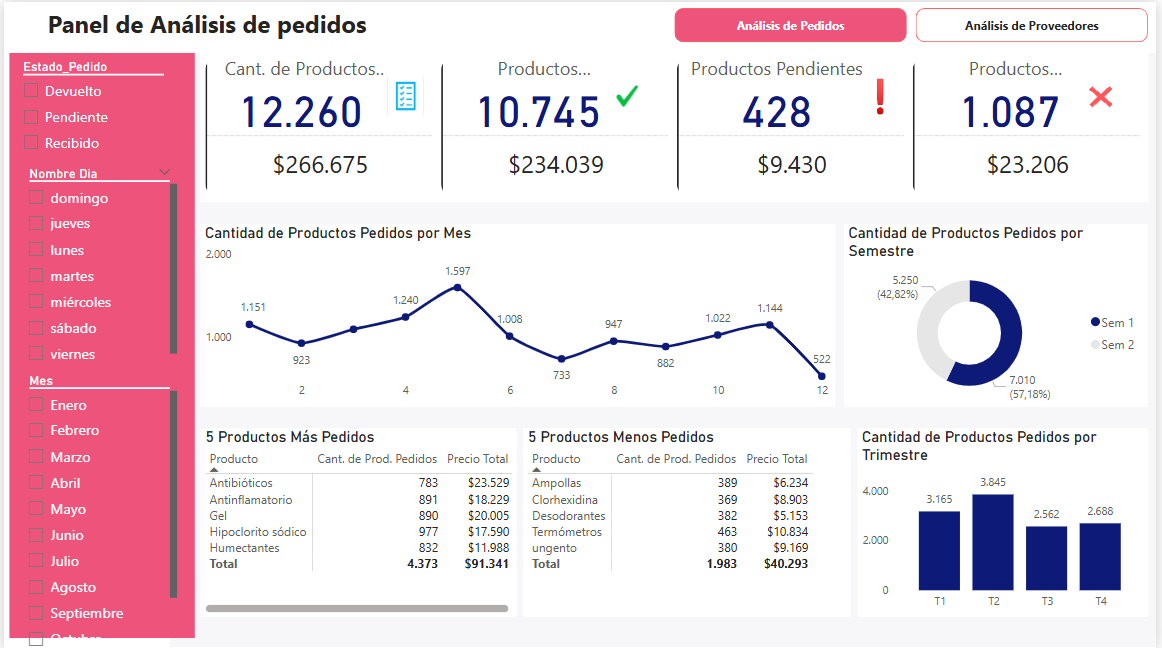

Layout of this report page (visuals, bound fields, positions):
{"tool":"powerbi","page":{"name":"Análisis de Pedidos","canvas":[1280,720],"ordinal":1},"visuals":[{"type":"textbox","box":[42.8,0,433.8,54.5],"z":0},{"type":"cardVisual","fields":{"Data":["Dax Medidas.Cant. de Productos Pedidos","Dax Medidas.Productos Recibidos","Dax Medidas.Productos Pendientes","Dax Medidas.Productos Devueltos"]},"box":[218,55,1053,167],"z":1000},{"type":"lineChart","title":"Cantidad de Productos Pedidos por Mes","fields":{"Category":["Calendario2.Mes Num"],"Y":["Dax Medidas.Cant. de Productos Pedidos"]},"box":[218,246,705,203],"z":2000},{"type":"donutChart","title":"Cantidad de Productos Pedidos por Semestre","fields":{"Category":["Calendario2.Semestre"],"Y":["Dax Medidas.Cant. de Productos Pedidos"]},"box":[934,246,337,203],"z":3000},{"type":"pivotTable","title":"5 Productos Más Pedidos","fields":{"Rows":["Productos4.Producto"],"Values":["Dax Medidas.Cant. de Productos Pedidos","Dax Medidas.Precio Total"]},"box":[218,474,351,210],"z":4000},{"type":"pivotTable","title":"5 Productos Menos Pedidos","fields":{"Rows":["Productos4.Producto"],"Values":["Dax Medidas.Cant. de Productos Pedidos","Dax Medidas.Precio Total"]},"box":[576,474,364,210],"z":5000},{"type":"clusteredColumnChart","title":"Cantidad de Productos Pedidos por Trimestre","fields":{"Category":["Calendario2.Trimestre"],"Y":["Dax Medidas.Cant. de Productos Pedidos"]},"box":[948,474,323,210],"z":6000},{"type":"slicer","fields":{"Values":["Datos1.Estado_Pedido"]},"box":[9,58,182,128],"z":7000},{"type":"slicer","fields":{"Values":["Calendario2.Nombre Dia"]},"box":[15,176,182,231],"z":8000},{"type":"slicer","fields":{"Values":["Calendario2.Mes"]},"box":[15,407,182,313],"z":9000},{"type":"pageNavigator","box":[744.5,6.1,526.3,38.8],"z":10000}]}

Visuals, with their boxes in screenshot pixels (x1, y1, x2, y2), scaled from the page's 1280x720 canvas onto the 1162x648 screenshot:
textbox: 39/0/433/49
cardVisual - Dax Medidas.Cant. de Productos Pedidos x Dax Medidas.Productos Recibidos: 198/50/1154/200
"Cantidad de Productos Pedidos por Mes" lineChart: 198/221/838/404
"Cantidad de Productos Pedidos por Semestre" donutChart: 848/221/1154/404
"5 Productos Más Pedidos" pivotTable: 198/427/517/616
"5 Productos Menos Pedidos" pivotTable: 523/427/853/616
"Cantidad de Productos Pedidos por Trimestre" clusteredColumnChart: 861/427/1154/616
slicer - Datos1.Estado_Pedido: 8/52/173/167
slicer - Calendario2.Nombre Dia: 14/158/179/366
slicer - Calendario2.Mes: 14/366/179/647
pageNavigator: 676/5/1154/40
